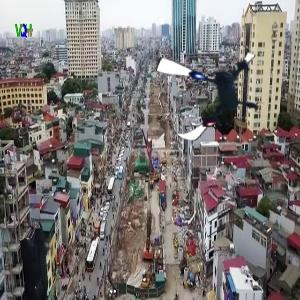drone: (151, 36, 268, 153)
